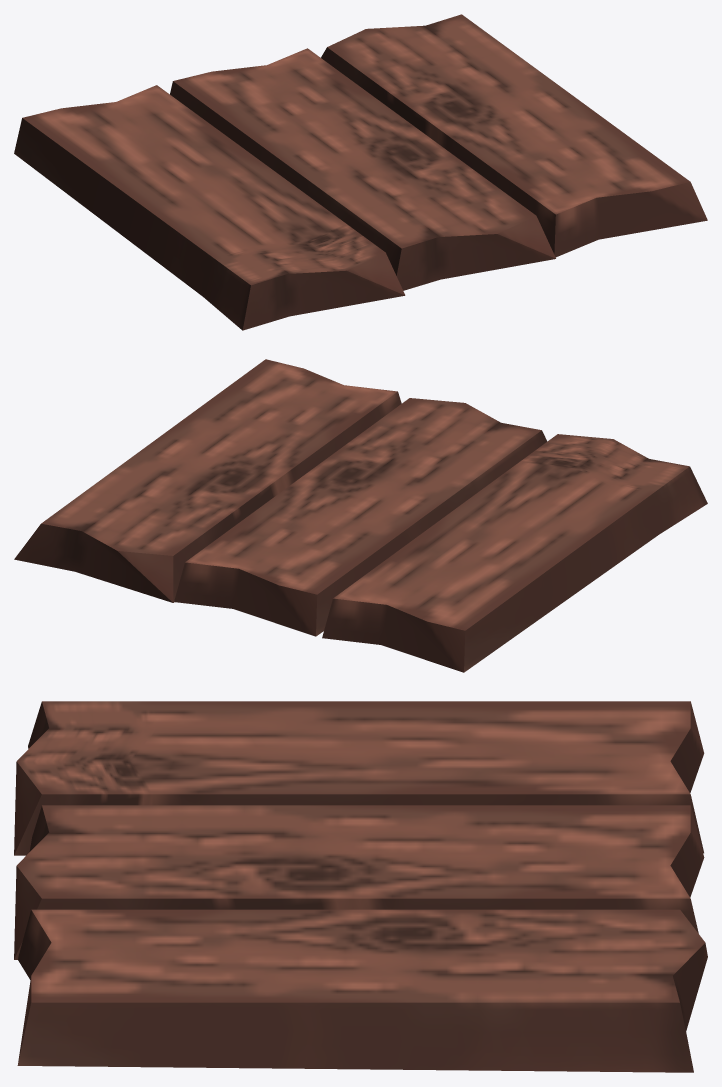
The model's file is Tria_P_Board.fbx.
3 views of the same model, one above another, from view 1: azimuth 30°, elevation 25°; view 2: azimuth 150°, elevation 25°; view 3: azimuth 270°, elevation 25° (orthographic). The views are drawn at different scales.
Parts seen in each view (by area): view 1: Tria_P_Board; view 2: Tria_P_Board; view 3: Tria_P_Board.
Part boxes in pixels (x1,y1,x2,y2): Tria_P_Board: (14,14,707,330); Tria_P_Board: (14,359,707,672); Tria_P_Board: (14,701,707,1072).
Size of the model in its own units: 218 by 16.98 by 196.
